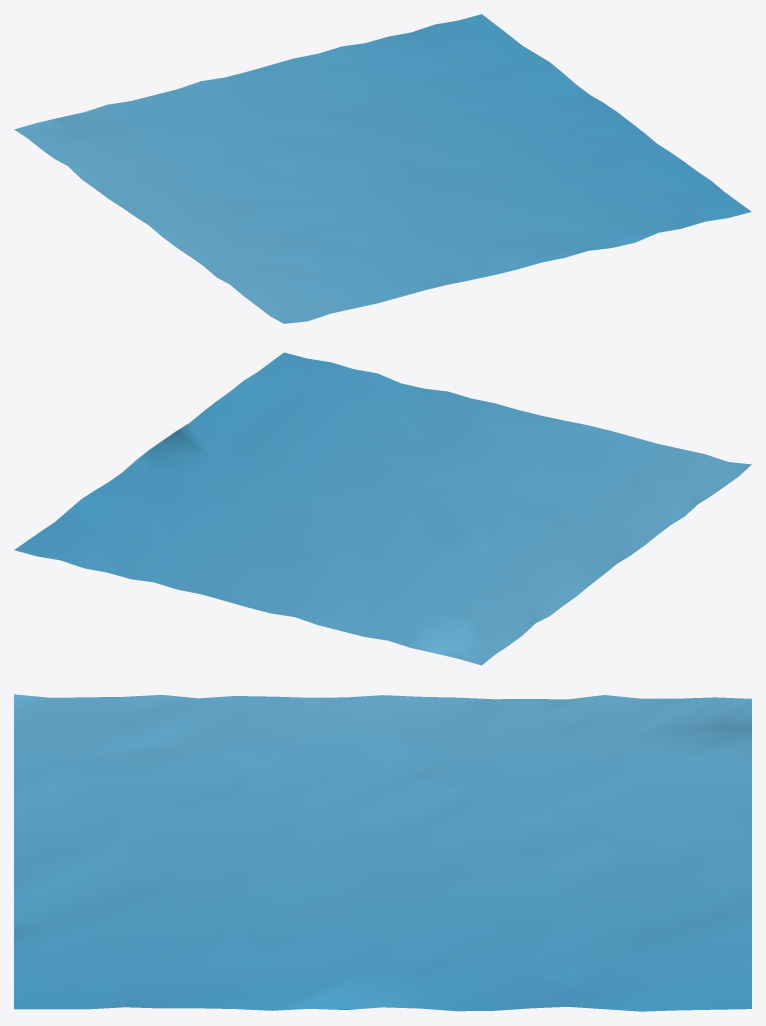
File: water 2.fbx
The picture shows the model from 3 angles, top to bottom: view 1: azimuth 30°, elevation 25°; view 2: azimuth 150°, elevation 25°; view 3: azimuth 270°, elevation 25°; orthographic projection. The views are drawn at different scales.
Visible parts, largest first — view 1: water_2; view 2: water_2; view 3: water_2.
Boxes of the visible parts, x1,y1,x2,y2 form: water_2: (14,14,751,323); water_2: (14,352,751,665); water_2: (14,694,751,1011).
Bounding box in the file's own units: 25567 × 264 × 25567.
Materials: 1 (1 with a texture image).
